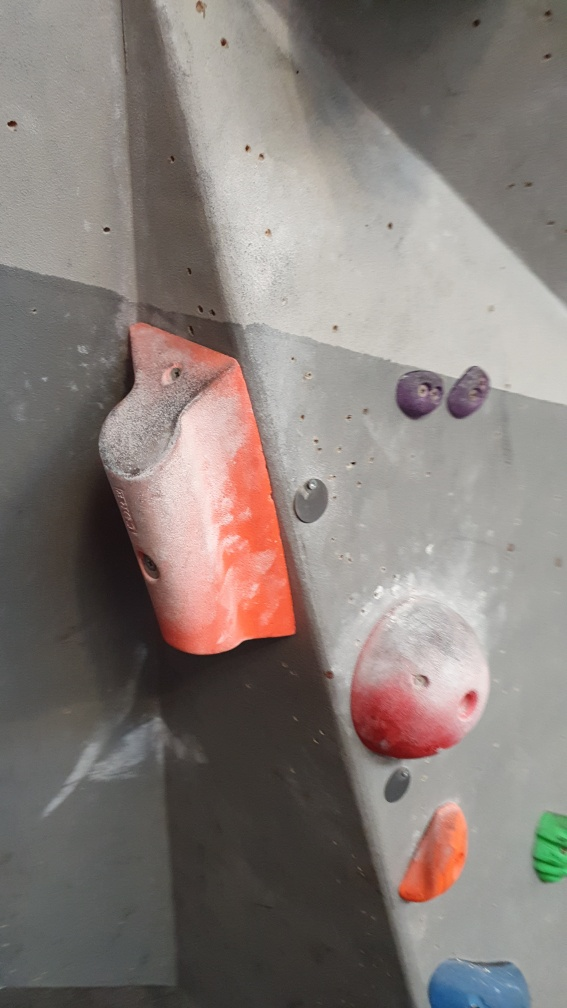Hand Start: (293, 476, 332, 527), (383, 768, 412, 805)
Pinch: (96, 320, 300, 662), (398, 367, 446, 424), (444, 364, 491, 422)
Sloper: (353, 595, 493, 755)
